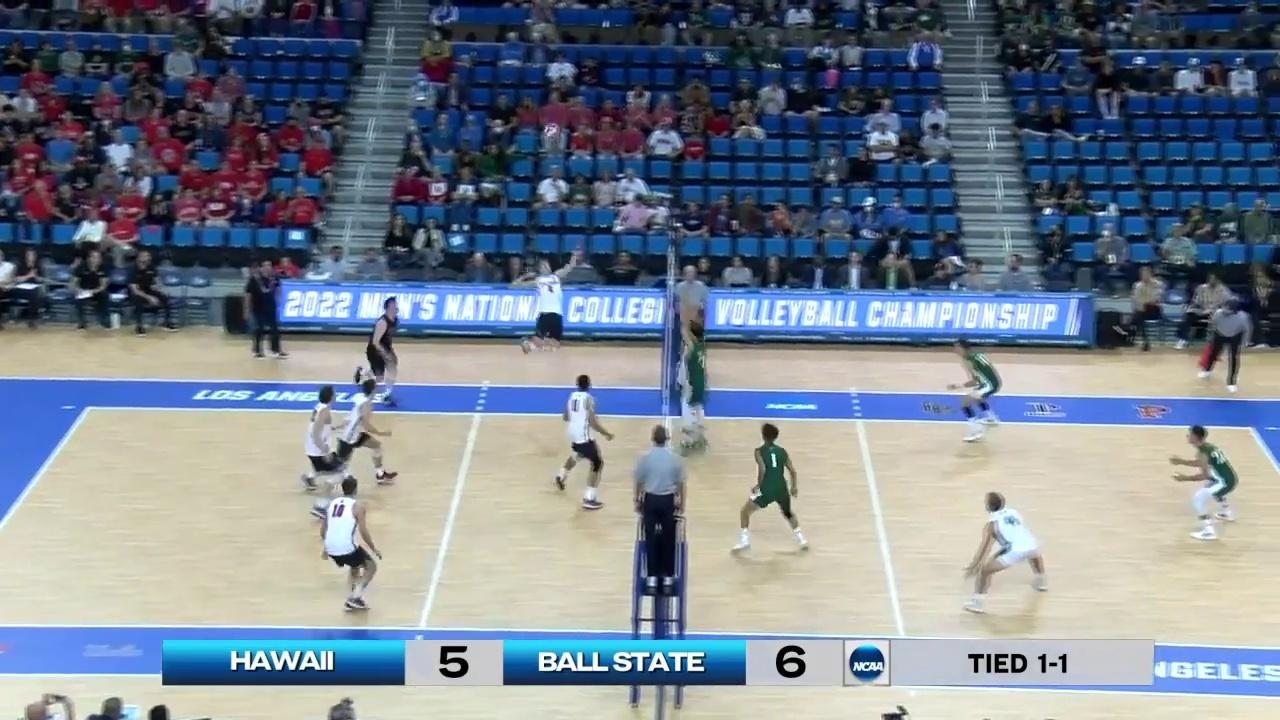player: (959, 492, 1051, 614), (303, 378, 398, 488), (732, 425, 810, 553), (317, 477, 381, 613), (1170, 424, 1241, 541), (554, 374, 614, 511), (510, 260, 582, 353), (943, 339, 1005, 442), (297, 385, 343, 516), (353, 299, 409, 406), (679, 321, 711, 455)
refree: (635, 430, 692, 591), (1202, 299, 1253, 389), (674, 266, 708, 359)
